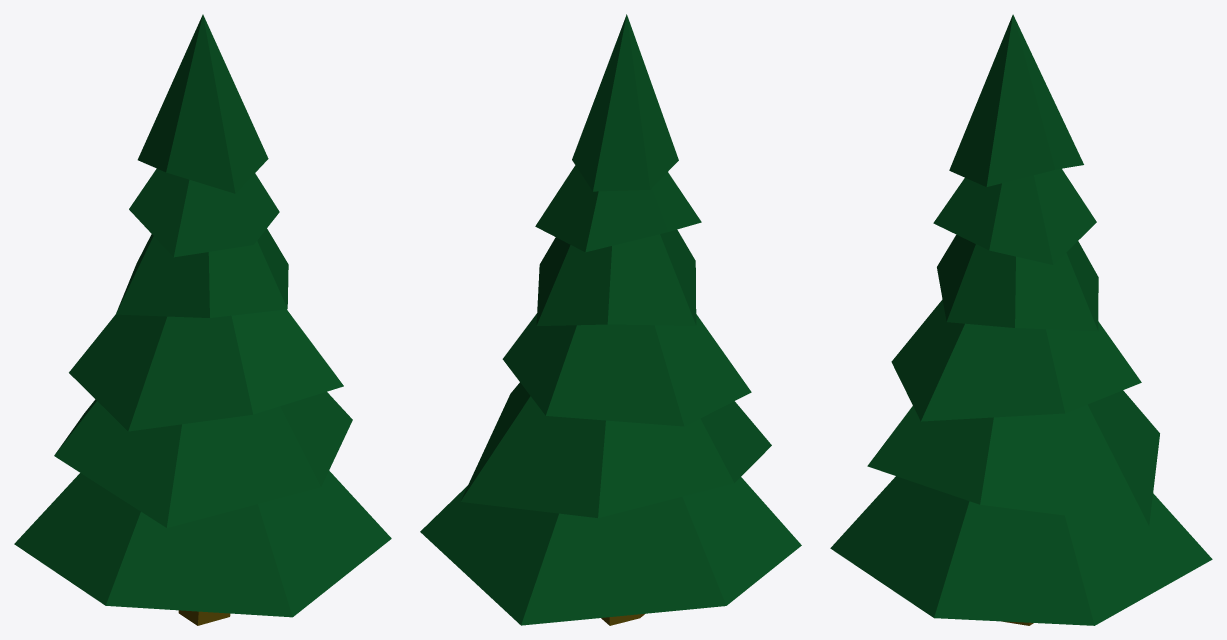
File: Tree10.fbx
3 renders of one model, left to right at view 1: azimuth 30°, elevation 25°; view 2: azimuth 150°, elevation 25°; view 3: azimuth 270°, elevation 25°, orthographic.
Parts seen in each view (by area): view 1: Wood.005; view 2: Wood.005; view 3: Wood.005.
Part boxes in pixels (x1,y1,x2,y2): Wood.005: (14, 14, 391, 625); Wood.005: (420, 14, 801, 625); Wood.005: (830, 14, 1212, 625).
Size of the model in its own units: 724 by 1330 by 771.
